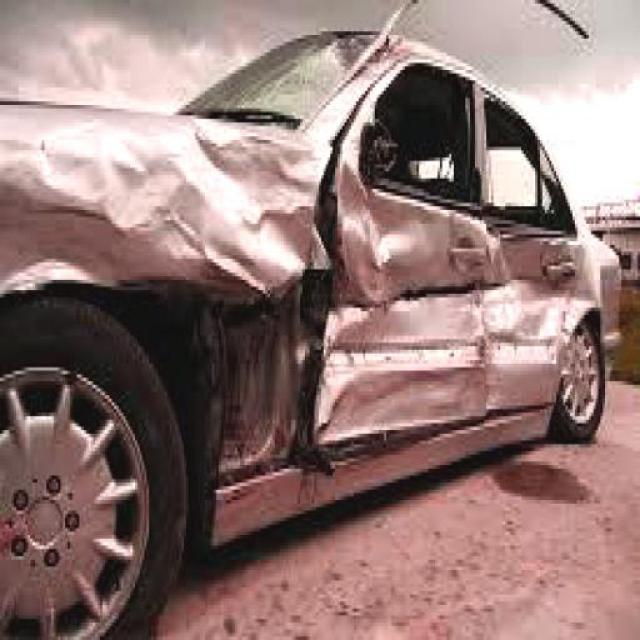Car-Damage: (3, 30, 610, 523)
